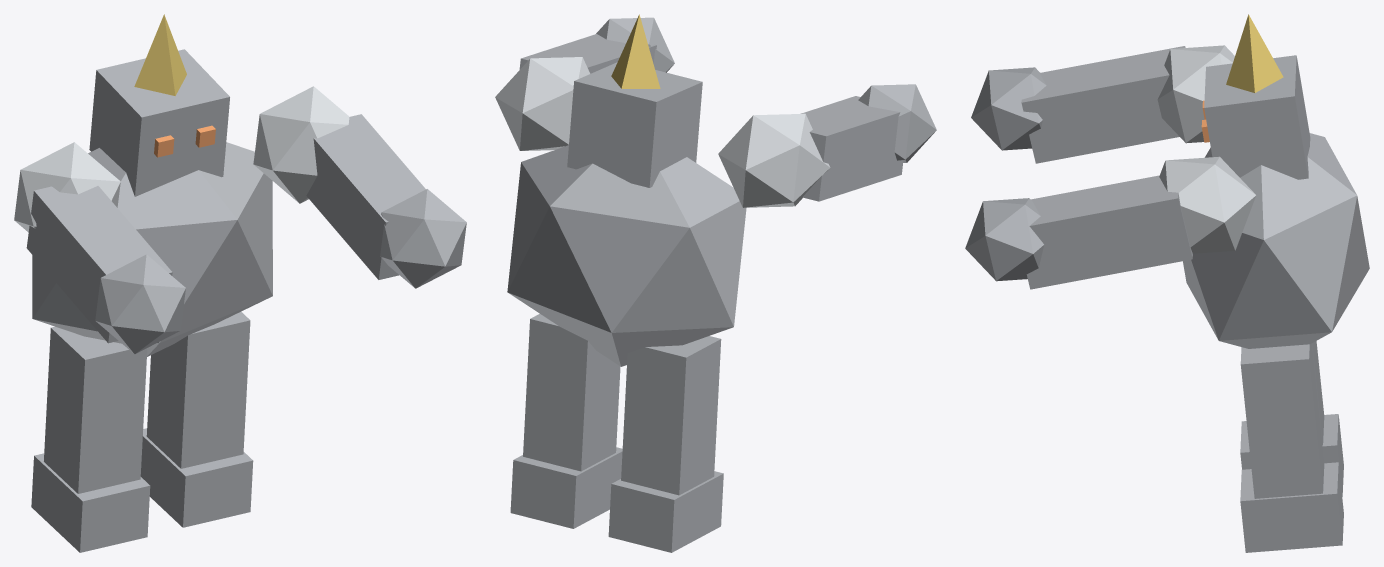
The model's file is npcpose_golem_walk_07.glb.
3 views of the same model, side by side, from view 1: azimuth 30°, elevation 25°; view 2: azimuth 150°, elevation 25°; view 3: azimuth 270°, elevation 25° (orthographic). The views are drawn at different scales.
Parts seen in each view (by area): view 1: npcpose; view 2: npcpose; view 3: npcpose.
Boxes of the visible parts, box(x1,y1,x2,y2) form: npcpose: box(14, 14, 466, 552); npcpose: box(495, 14, 936, 552); npcpose: box(965, 14, 1369, 552).
Size of the model in its own units: 1.39 by 1.92 by 1.41.
